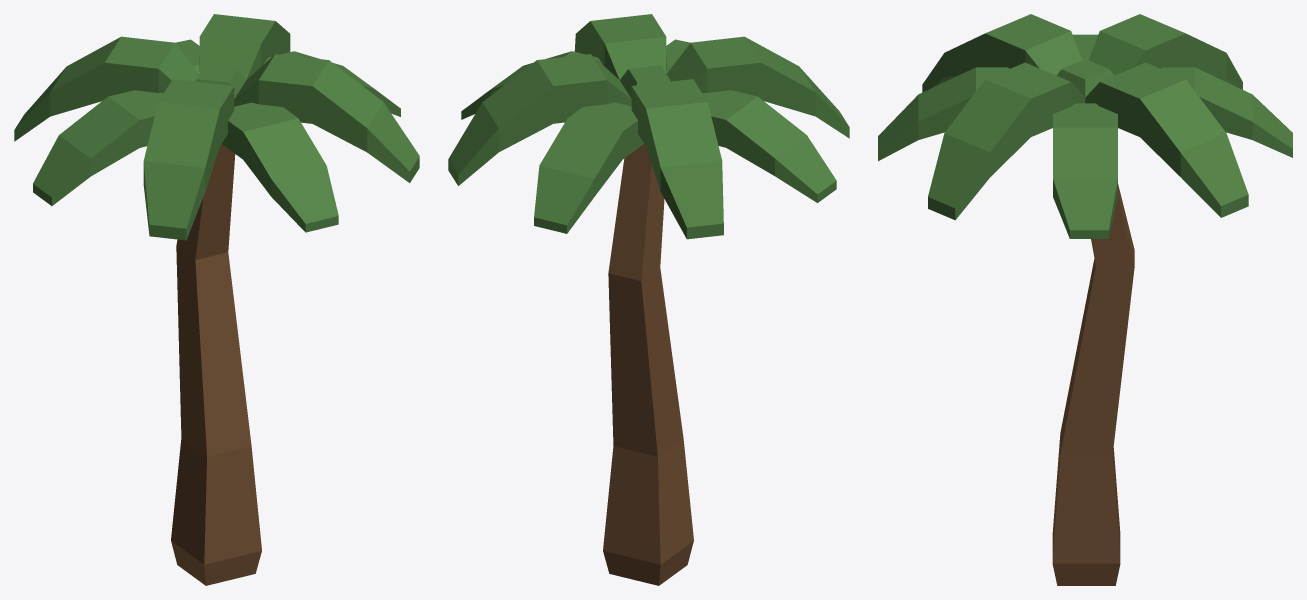
File: kenney_palm_detailed_tall.glb
The picture shows the model from 3 angles, left to right: view 1: azimuth 30°, elevation 25°; view 2: azimuth 150°, elevation 25°; view 3: azimuth 270°, elevation 25°; orthographic projection.
Parts seen in each view (by area): view 1: leafs (×2), tree_palmDetailedTall; view 2: leafs (×2), tree_palmDetailedTall; view 3: leafs (×2), tree_palmDetailedTall.
Part boxes in pixels (<box>): leafs (×2): <box>14,14,419,240</box>; tree_palmDetailedTall: <box>171,144,261,585</box>; leafs (×2): <box>448,14,849,239</box>; tree_palmDetailedTall: <box>603,144,693,585</box>; leafs (×2): <box>878,14,1292,238</box>; tree_palmDetailedTall: <box>1052,184,1134,585</box>.
Size of the model in its own units: 1.03 by 1.42 by 1.03.
